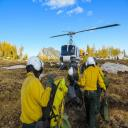helicopter: (51, 25, 120, 71)
